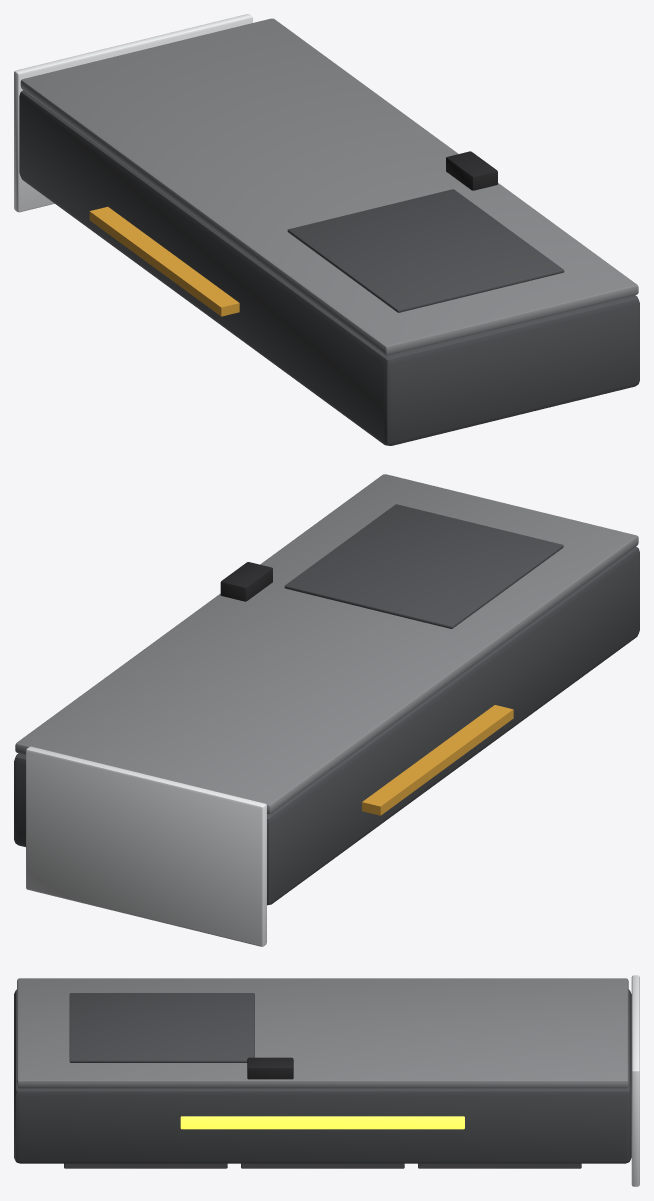
The model's file is gpu_rtx5080.glb.
3 renders of one model, top to bottom at view 1: azimuth 30°, elevation 25°; view 2: azimuth 150°, elevation 25°; view 3: azimuth 270°, elevation 25°, orthographic. The views are drawn at different scales.
Visible parts, largest first — view 1: RTX5080_Body; view 2: RTX5080_Body; view 3: RTX5080_Body, RGB_RTX5080_Bar, RTX5080_F0_Frame, RTX5080_F1_Frame, RTX5080_F2_Frame.
Part boxes in pixels (x1=…): RTX5080_Body: x1=14, y1=14, x2=639, y2=445; RTX5080_Body: x1=14, y1=474, x2=639, y2=946; RTX5080_Body: x1=14, y1=975, x2=639, y2=1186; RGB_RTX5080_Bar: x1=180, y1=1116, x2=464, y2=1129; RTX5080_F0_Frame: x1=64, y1=1163, x2=227, y2=1168; RTX5080_F1_Frame: x1=241, y1=1163, x2=404, y2=1168; RTX5080_F2_Frame: x1=418, y1=1163, x2=581, y2=1168.
Size of the model in its own units: 1.29 by 0.6628 by 2.99.
